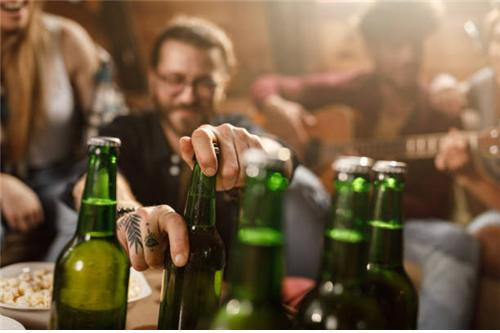alcohol: (54, 138, 132, 333), (296, 157, 377, 333), (213, 151, 289, 333), (157, 145, 224, 333), (355, 160, 419, 333)
